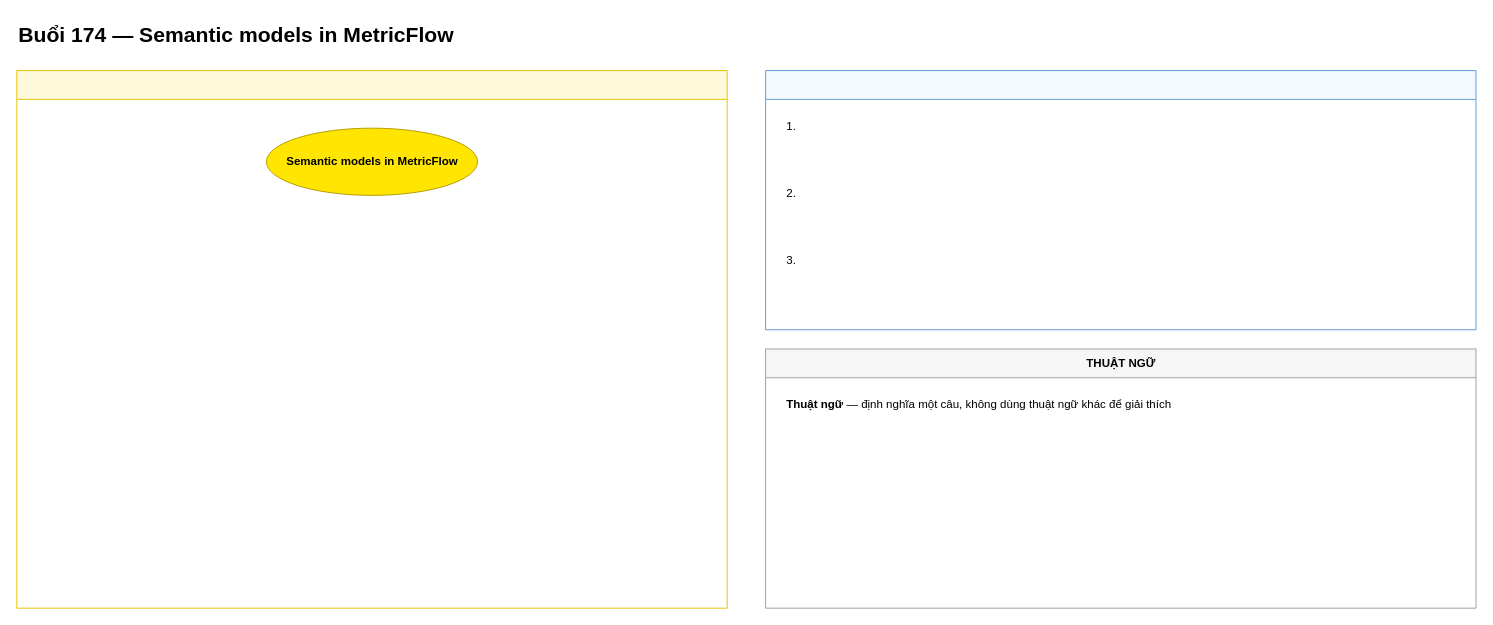
This 1493x625 diagram has some shape labels left out. Each missing label, with the box of its shape:
KEY TAKEAWAY — ba điều phải nhớ: (765, 70, 1476, 330)
MINDMAP: (16, 70, 727, 608)
